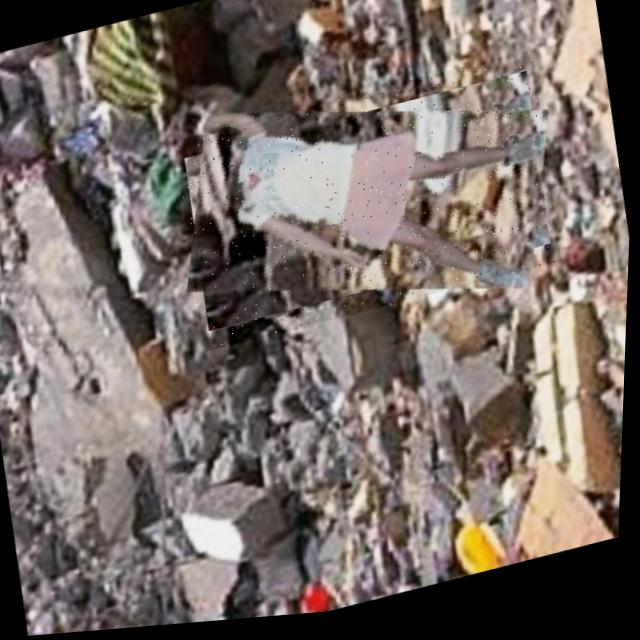Person in Rubble: (168, 55, 569, 357)
